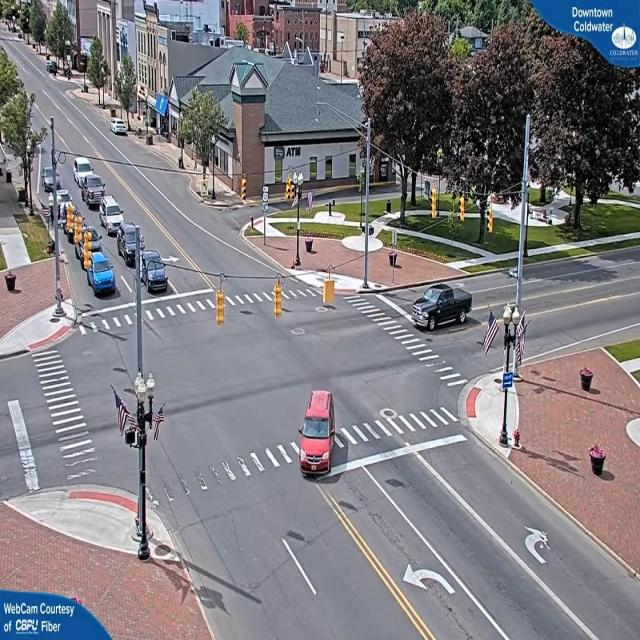car: (298, 391, 338, 476), (413, 282, 472, 331), (84, 248, 118, 298), (141, 249, 171, 292), (101, 200, 126, 237), (118, 224, 142, 261), (112, 120, 129, 136)
truck: (73, 156, 104, 209)
